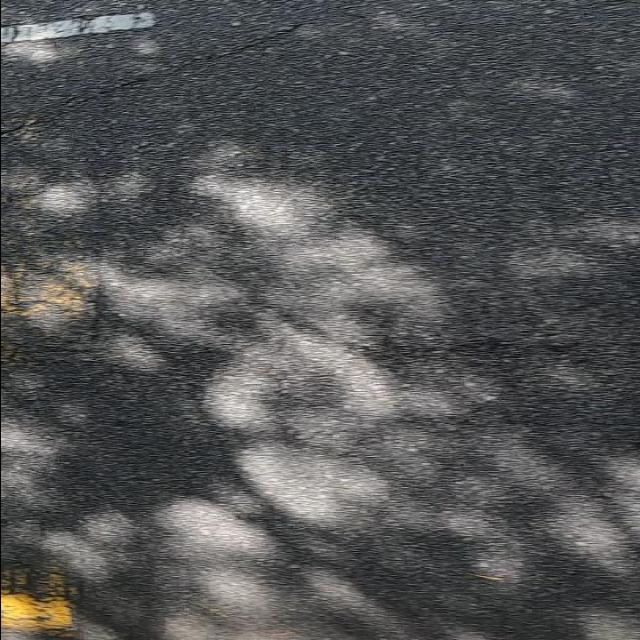cracks: (2, 19, 324, 148), (2, 188, 126, 368)
